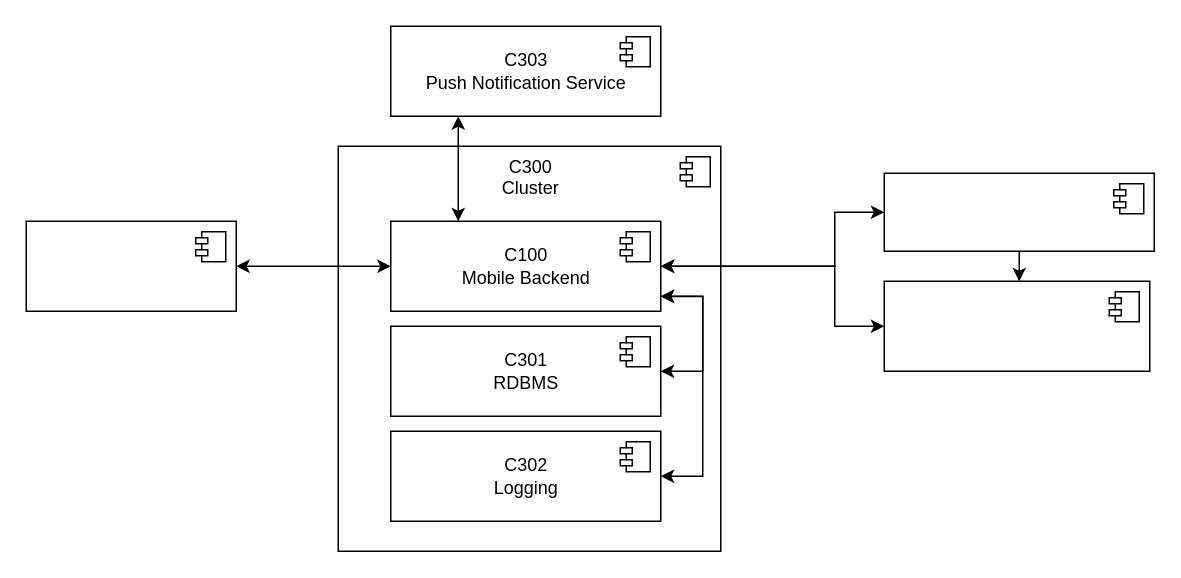
Image size: 1181x578. Some labels were removed from this diagram. The centre of each missing label's shape, as x and y in pixels:
"C110 Questionnaire Response Downloader" belongs at pixel 1016 325.
"C200 Mobile App" belongs at pixel 130 265.
"C400 Study System" belongs at pixel 1018 211.
